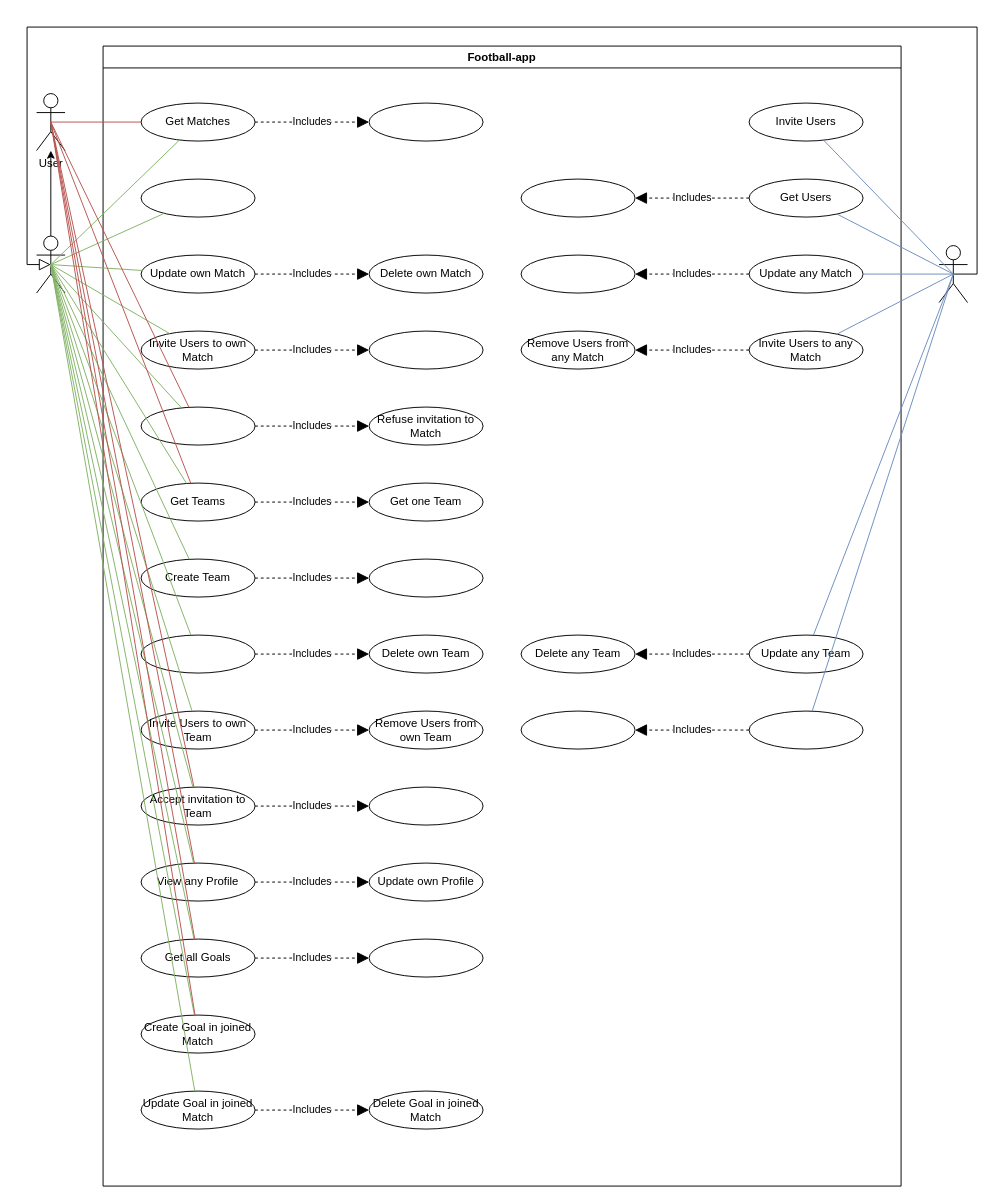
Some shapes in this 1005 by 1203 pixel diagram are drawn without their labels. The shapes that lost their labels are listed below. From the top down, each one's box as (x1, y1, x2, y2) in pixels, then its label:
(368, 102, 483, 141): Get one Match
(140, 178, 255, 217): Create Match
(520, 178, 635, 217): Remove any User
(36, 235, 65, 293): Organizer
(520, 254, 635, 293): Delete any Match
(938, 245, 968, 303): Admin
(368, 330, 483, 369): Remove Users from own Match
(140, 406, 255, 445): Accept invitation to Match
(368, 558, 483, 597): Update default Team
(140, 634, 255, 673): Update own Team
(520, 710, 635, 749): Remove Users from any Team
(748, 710, 863, 749): Invite Users to any Team
(368, 786, 483, 825): Refuse invitation to Team
(368, 938, 483, 977): Get one Goal
